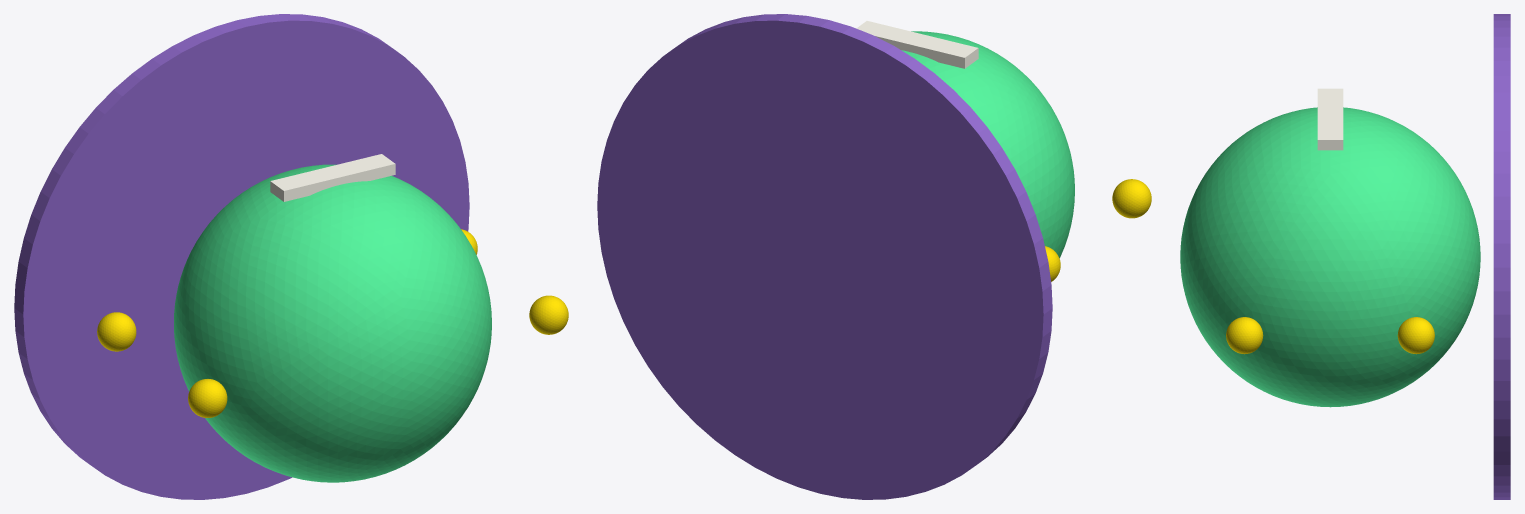
Rendered from modelo.glb.
3 views of the same model, side by side, from view 1: azimuth 30°, elevation 25°; view 2: azimuth 150°, elevation 25°; view 3: azimuth 270°, elevation 25° (orthographic). The views are drawn at different scales.
Visible parts, largest first — view 1: base, ion, sinal_horizontal, eletron_2, eletron_1, eletron_0; view 2: base, ion, sinal_horizontal, eletron_0; view 3: ion, base, sinal_horizontal, eletron_3, eletron_1.
Part boxes in pixels (<box>): base: <box>14,14,469,499</box>; ion: <box>174,164,491,482</box>; sinal_horizontal: <box>270,154,395,201</box>; eletron_2: <box>97,312,136,351</box>; eletron_1: <box>529,295,568,334</box>; eletron_0: <box>188,379,227,417</box>; base: <box>597,14,1052,499</box>; ion: <box>901,31,1074,258</box>; sinal_horizontal: <box>856,21,978,68</box>; eletron_0: <box>1112,179,1151,218</box>; ion: <box>1180,107,1480,407</box>; base: <box>1493,14,1510,499</box>; sinal_horizontal: <box>1317,88,1343,150</box>; eletron_3: <box>1397,317,1434,354</box>; eletron_1: <box>1226,317,1263,354</box>.
Size of the model in its own units: 0.34 by 0.34 by 0.231.
